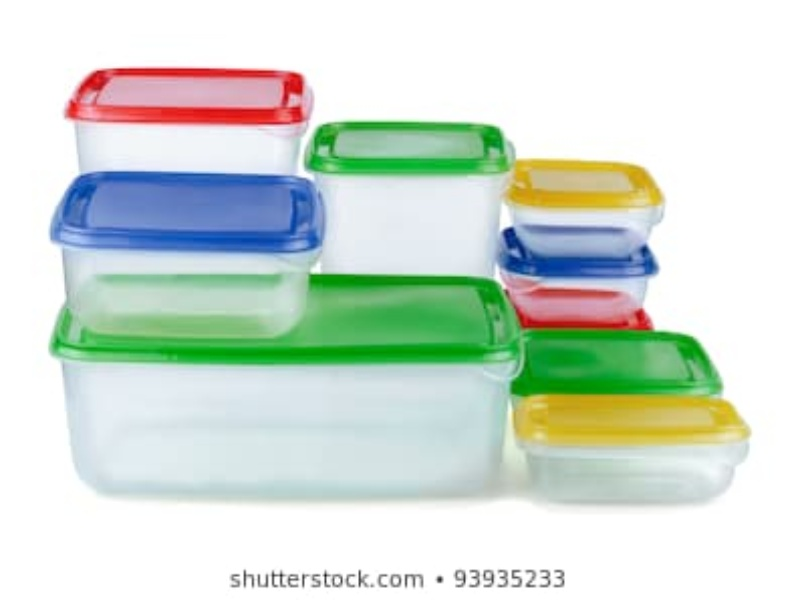plastic-container: (42, 269, 528, 504), (47, 171, 344, 338), (300, 117, 517, 271), (64, 66, 316, 178), (509, 395, 752, 508), (503, 155, 670, 261), (500, 223, 662, 317)
